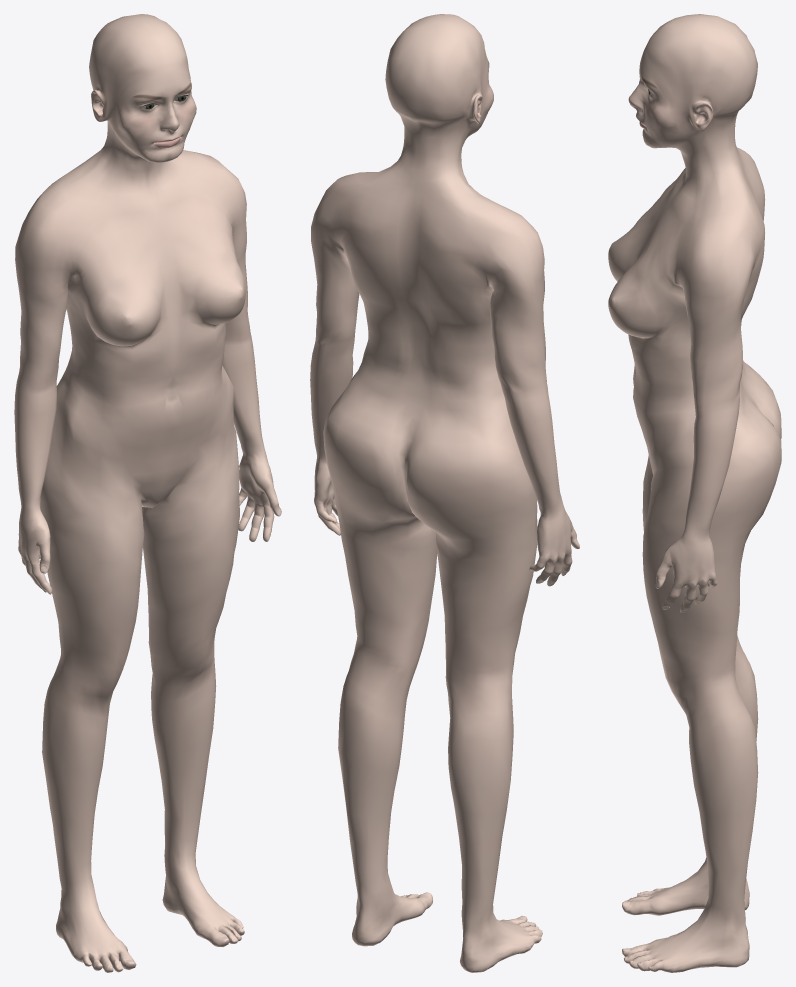
File: woman_north_v3.glb
3 renders of one model, left to right at view 1: azimuth 30°, elevation 25°; view 2: azimuth 150°, elevation 25°; view 3: azimuth 270°, elevation 25°, orthographic.
Parts seen in each view (by area): view 1: basemesh_female_body; view 2: basemesh_female_body; view 3: basemesh_female_body.
Part boxes in pixels (bbox=[...]): basemesh_female_body: bbox=[14, 14, 281, 972]; basemesh_female_body: bbox=[310, 14, 579, 972]; basemesh_female_body: bbox=[608, 14, 781, 972].
Size of the model in its own units: 0.4951 by 1.77 by 0.3022.
3 materials, 2 textured.
